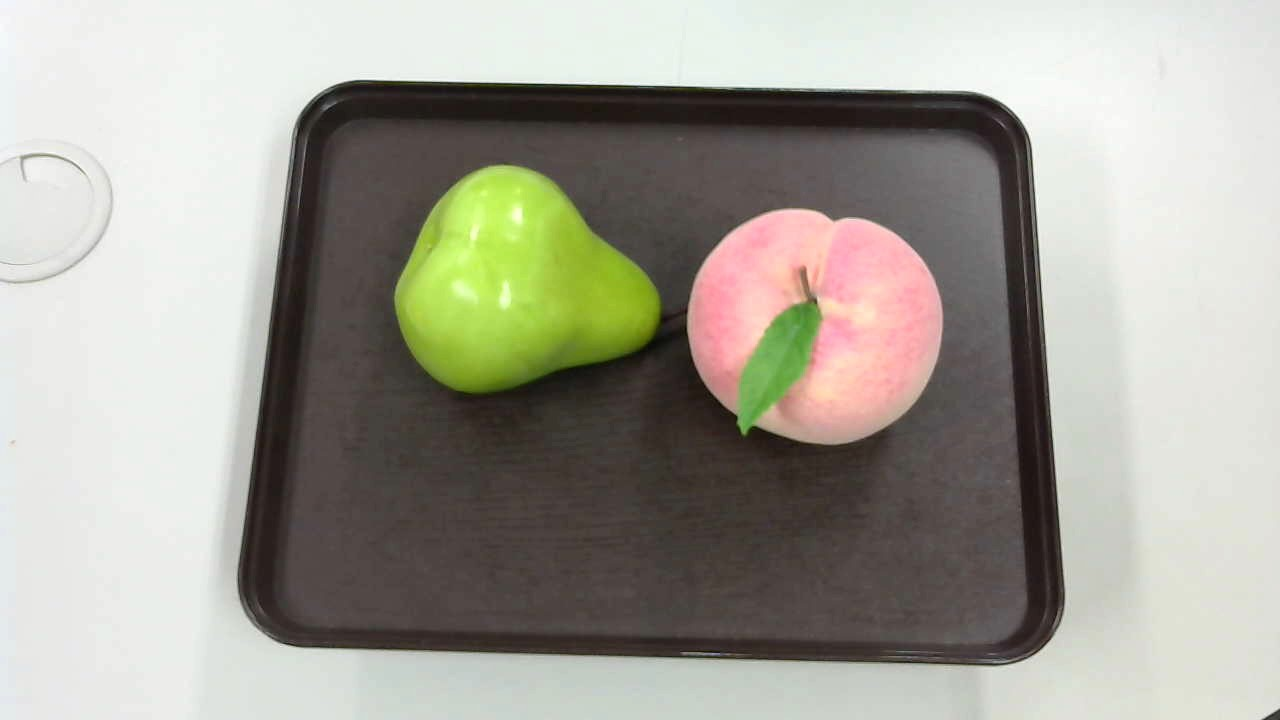green pear: (370, 165, 684, 404)
peach: (687, 204, 945, 448)
